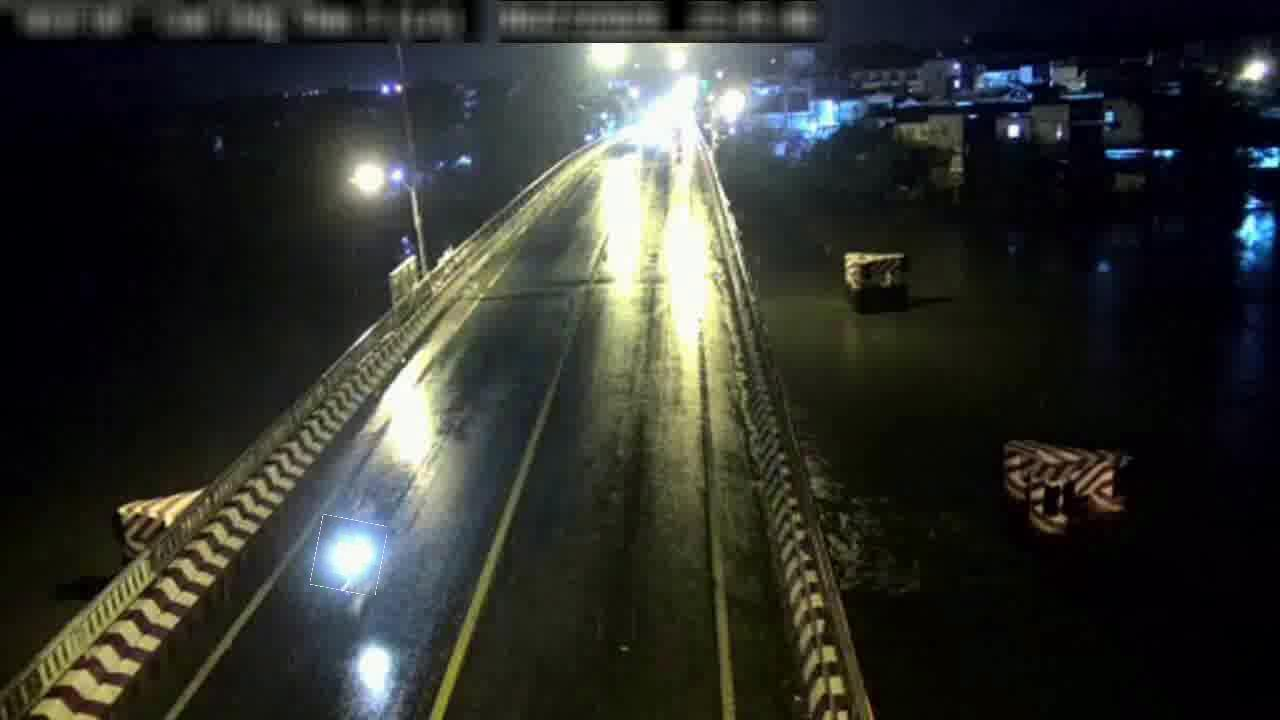motorbike: (313, 517, 385, 594)
